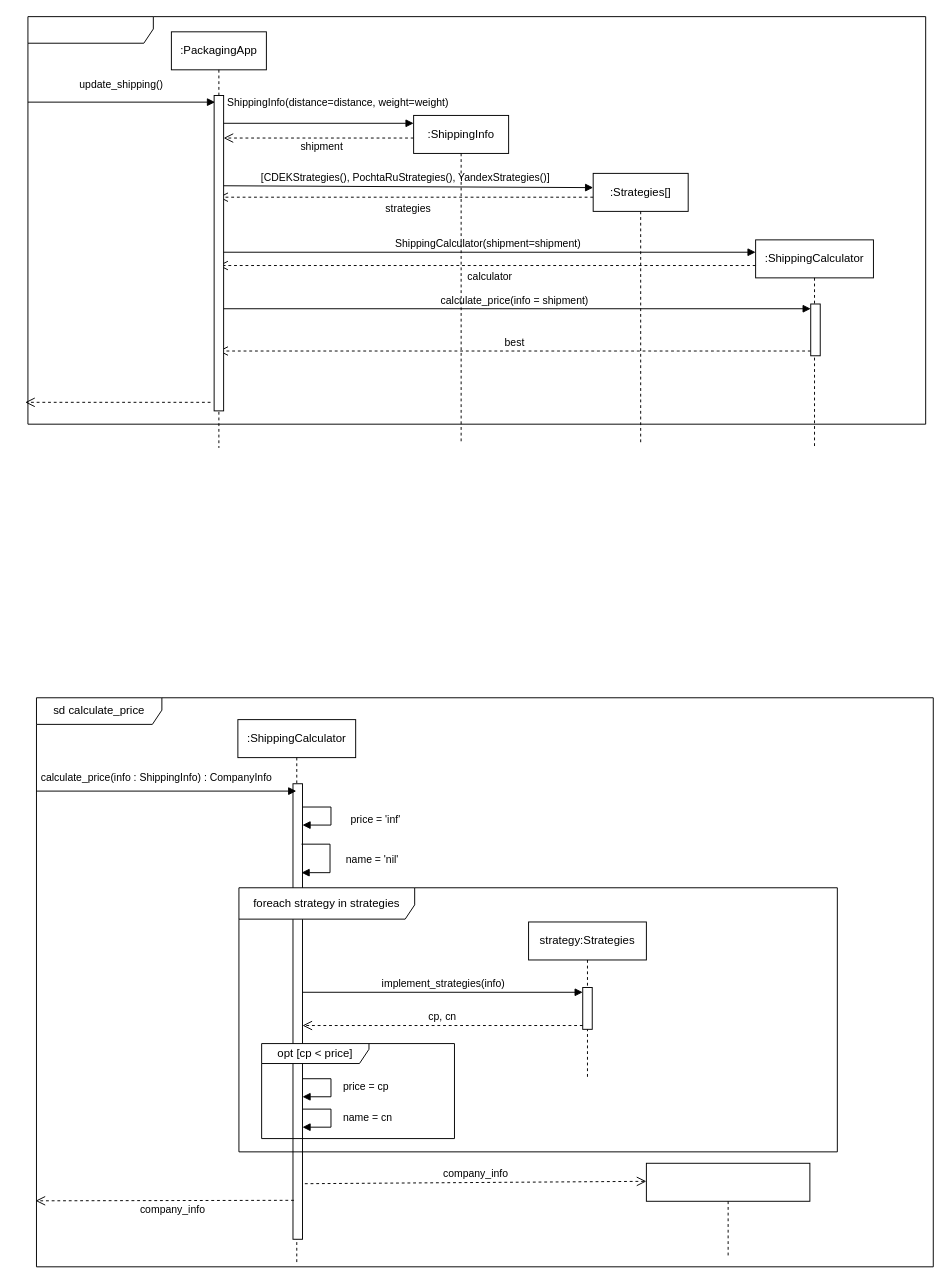
Image size: 950x1283. Some labels were removed from this diagram. Each missing label, with the centre of its shape:
"company_info:CompanyInfo" goes at point (727, 1210).
"sd: update_shipping()" goes at point (476, 220).
